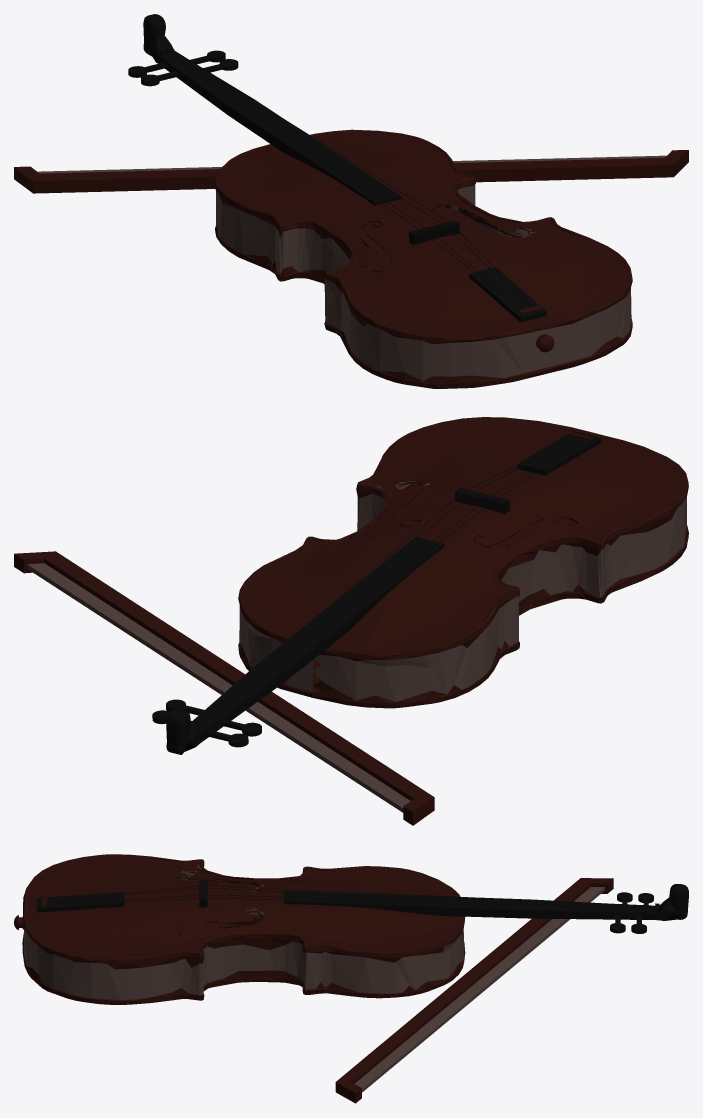
File: Violin.obj
3 views of the same model, one above another, from view 1: azimuth 30°, elevation 25°; view 2: azimuth 150°, elevation 25°; view 3: azimuth 270°, elevation 25° (orthographic). The views are drawn at different scales.
Parts seen in each view (by area): view 1: Object004, Box017, Box019, Line008, Box014, Box022; view 2: Object004, Box017, Box019, Line008, Box014, Box022; view 3: Object004, Box017, Box019, Line008, Box014.
Part boxes in pixels (x1,y1,x2,y2): Object004: (214,129,632,388); Box017: (14,150,688,193); Box019: (143,14,401,205); Line008: (166,50,533,309); Box014: (469,267,546,322); Box022: (408,220,459,245); Object004: (238,417,688,708); Box017: (14,551,434,825); Box019: (166,536,444,754); Line008: (190,436,584,726); Box014: (517,431,601,475); Box022: (455,488,509,514); Object004: (22,854,465,1004); Box017: (335,878,613,1103); Box019: (283,884,688,920); Line008: (47,885,655,908); Box014: (36,892,124,912).
Bounding box in the file's own units: 591188 × 98574 × 780572.
